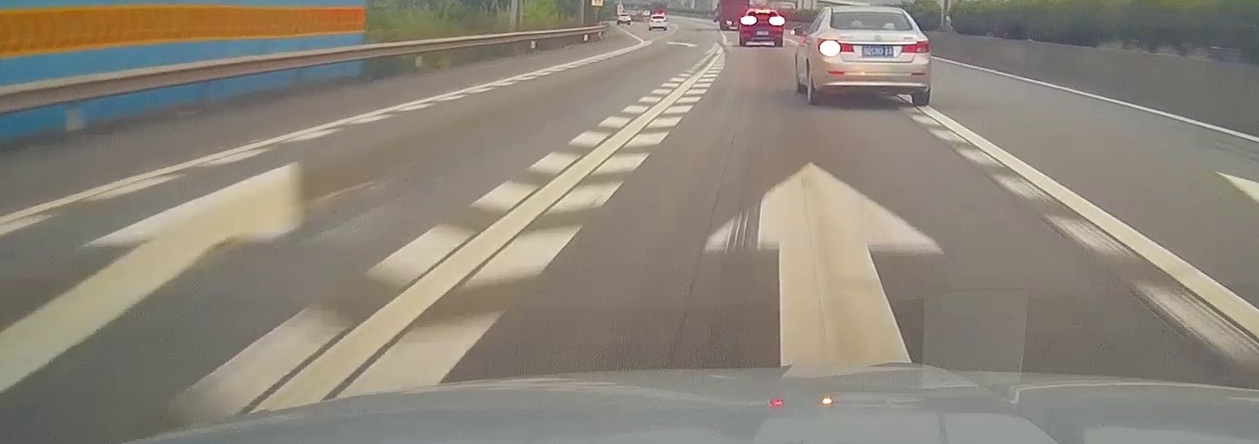L_light: (816, 38, 854, 52), (741, 18, 753, 23)
R_light: (901, 40, 929, 53), (771, 18, 783, 23)
T_light: (864, 11, 877, 14), (757, 10, 769, 13)
day-brake: (739, 8, 784, 47)
day-left: (813, 6, 932, 107)
